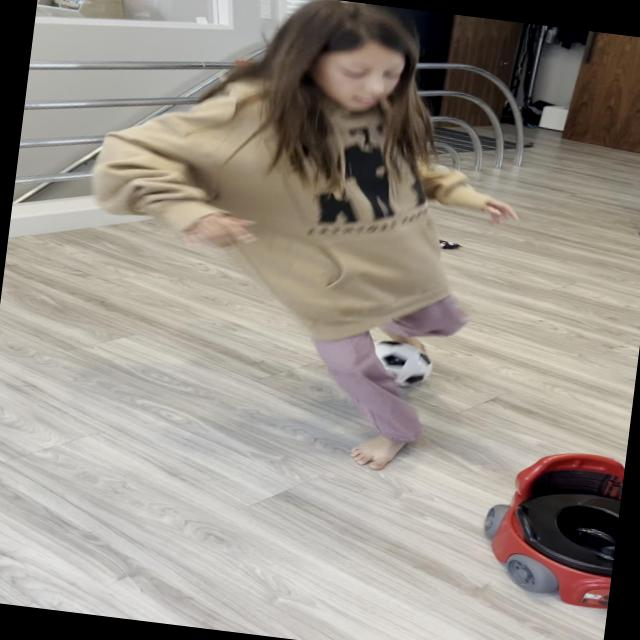Soccer Ball: (354, 336, 433, 390)
